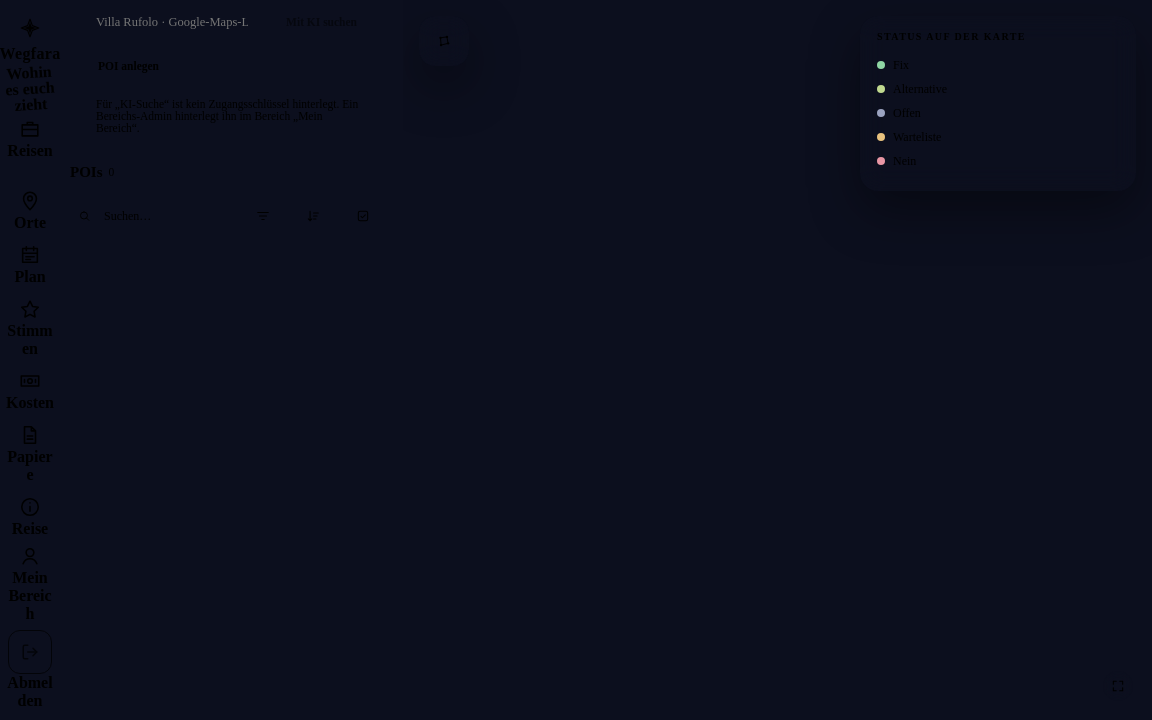
Test case: PlanView › zeigt "Süditalien Rundreise" im Kopfbereich nach Auswahl in der Reiseliste
The image size is (1152, 720).
Click the button titled "Reise: Wien Städtereise".
click(30, 139)  # box [4,113,56,165]
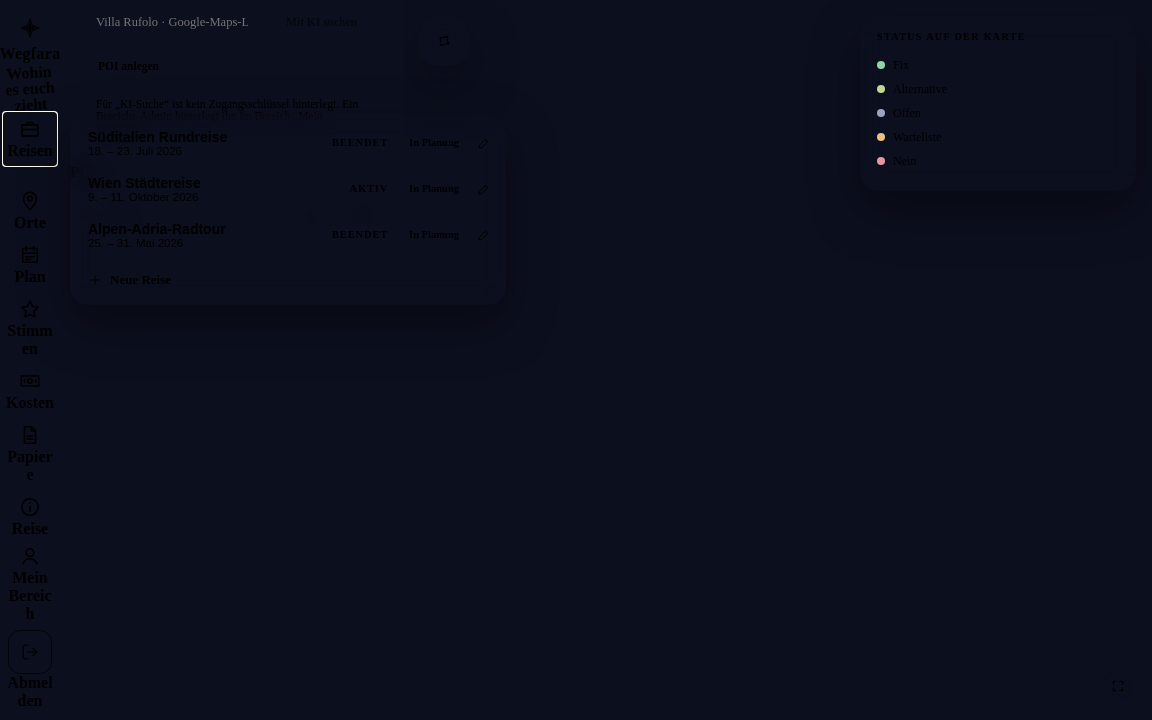
Click the text "Süditalien Rundreise".
click(158, 137)  # box [88,129,227,145]
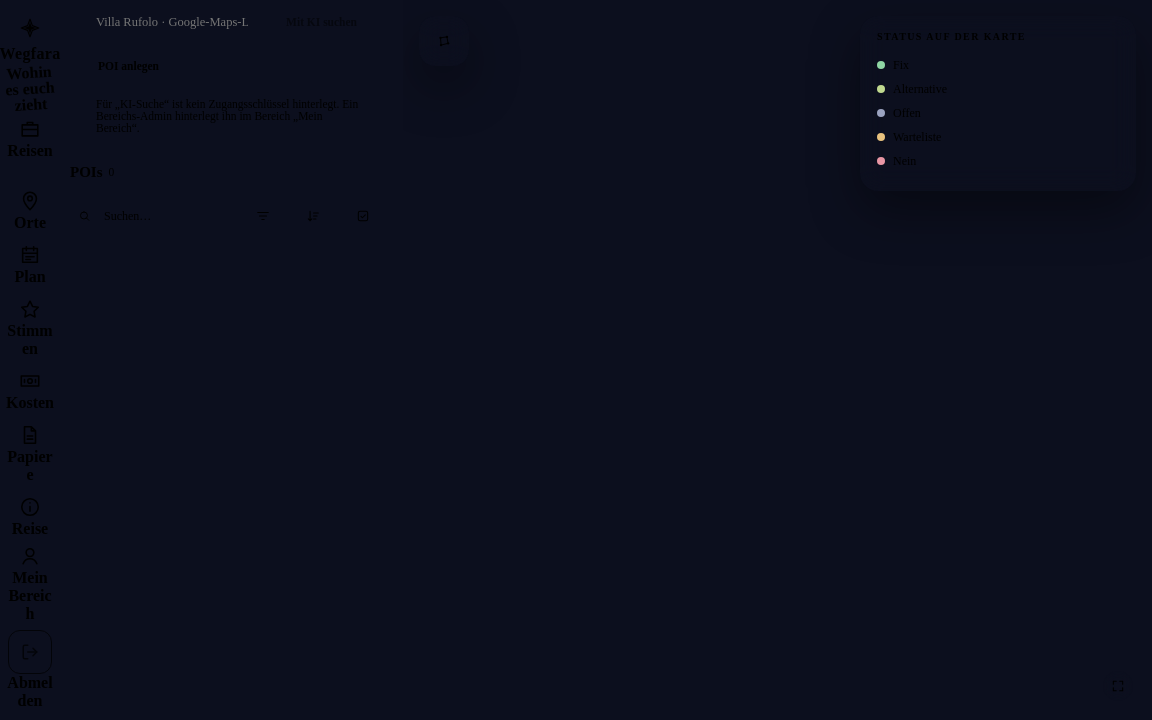
Result: the dialog is gone
